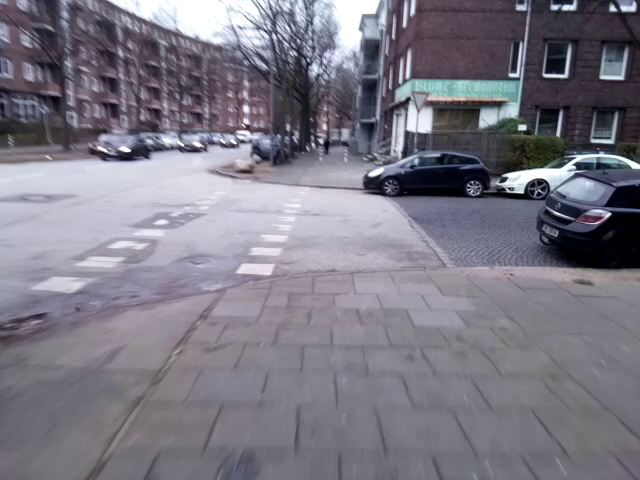car: (361, 147, 498, 199)
